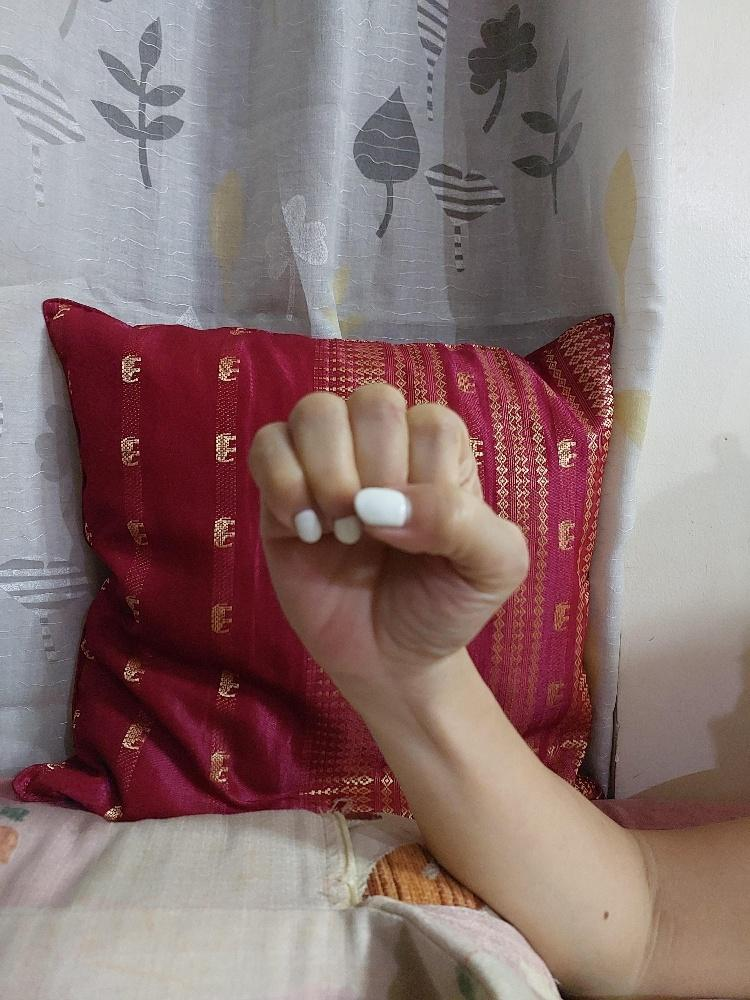s: (244, 380, 533, 676)
